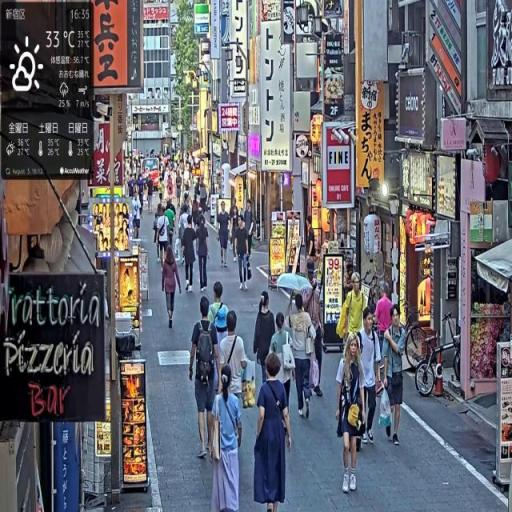person: (254, 351, 293, 510), (189, 296, 223, 464), (210, 365, 243, 512), (336, 334, 365, 497), (222, 311, 251, 448), (357, 309, 384, 447), (383, 305, 409, 447), (300, 257, 326, 399), (289, 294, 317, 423), (339, 272, 367, 360), (209, 308, 237, 395), (253, 294, 277, 392), (375, 284, 394, 384), (161, 243, 183, 329), (209, 280, 232, 361), (183, 214, 200, 293), (234, 214, 251, 291), (155, 203, 172, 277), (196, 212, 211, 292), (218, 201, 232, 271), (130, 192, 144, 241), (165, 202, 178, 254)
